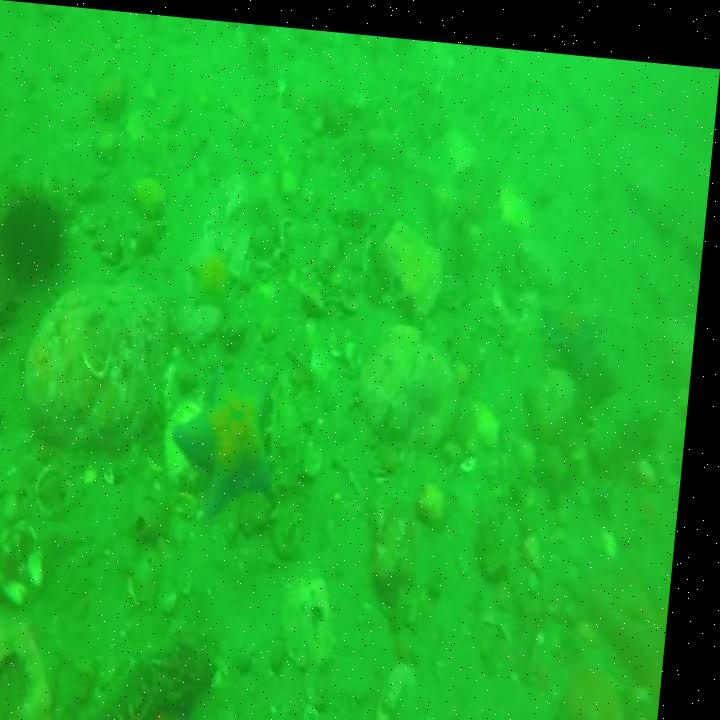echinus: (0, 175, 80, 293)
holothurian: (263, 369, 325, 556)
scallop: (294, 573, 357, 667), (0, 515, 62, 602), (172, 391, 217, 488), (386, 647, 435, 720), (81, 311, 123, 376), (503, 160, 542, 223), (482, 380, 509, 439), (315, 344, 338, 383)
starfish: (177, 367, 281, 523), (544, 278, 608, 364), (190, 235, 244, 320)
